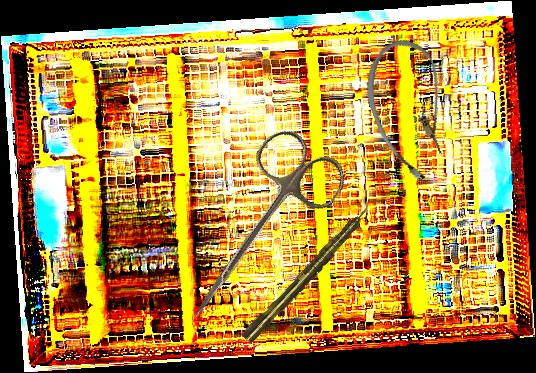Cannula: (351, 31, 472, 189)
Handpiece: (239, 199, 378, 346)
Iris Scissors: (160, 121, 354, 346)
